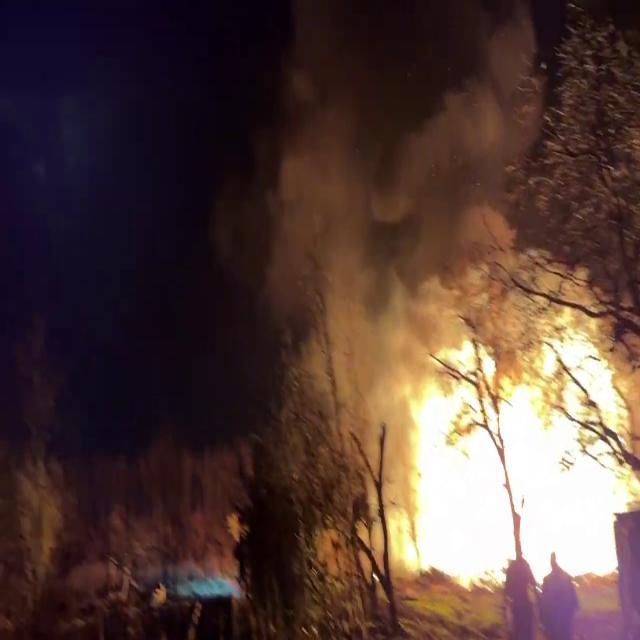Fire: (374, 301, 640, 597)
Smoke: (229, 2, 564, 390)
